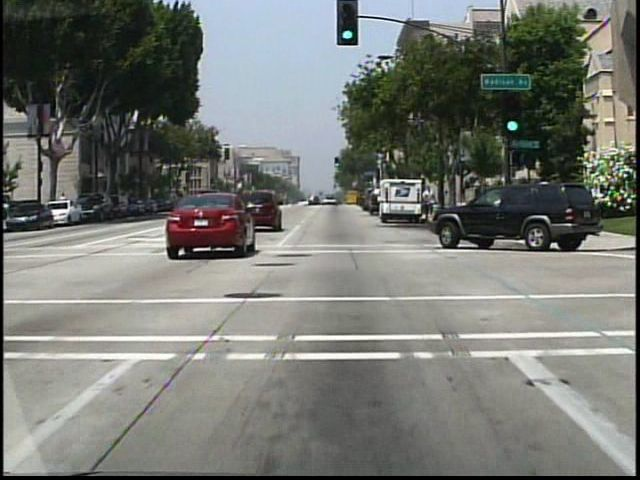person: (422, 185, 436, 222), (359, 188, 372, 214), (60, 190, 72, 214)
